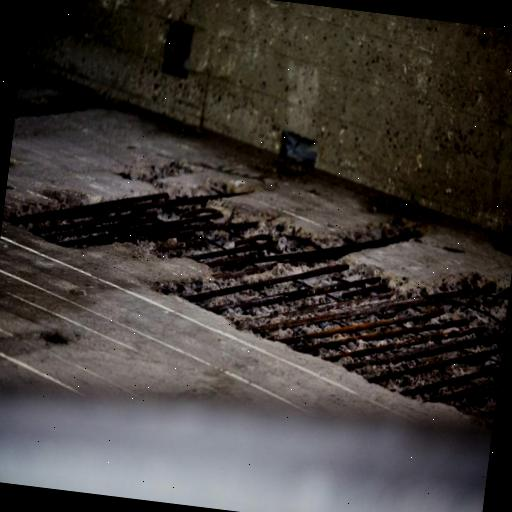spalling: (15, 159, 505, 424)
